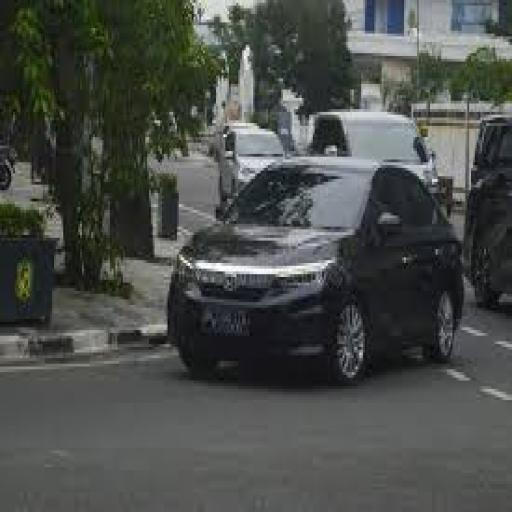License: (200, 301, 257, 341)
